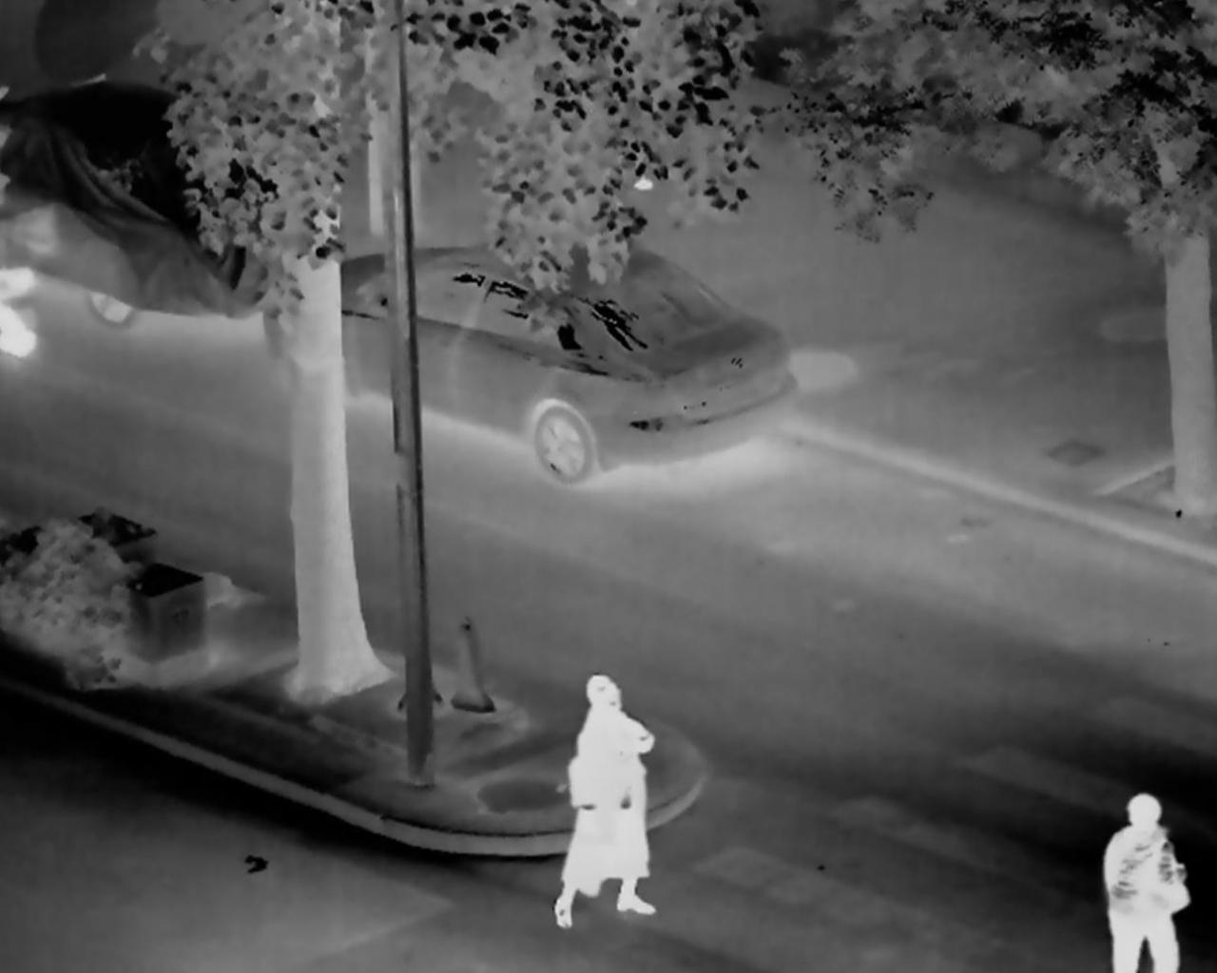person: (537, 663, 670, 932), (1097, 775, 1217, 967)
